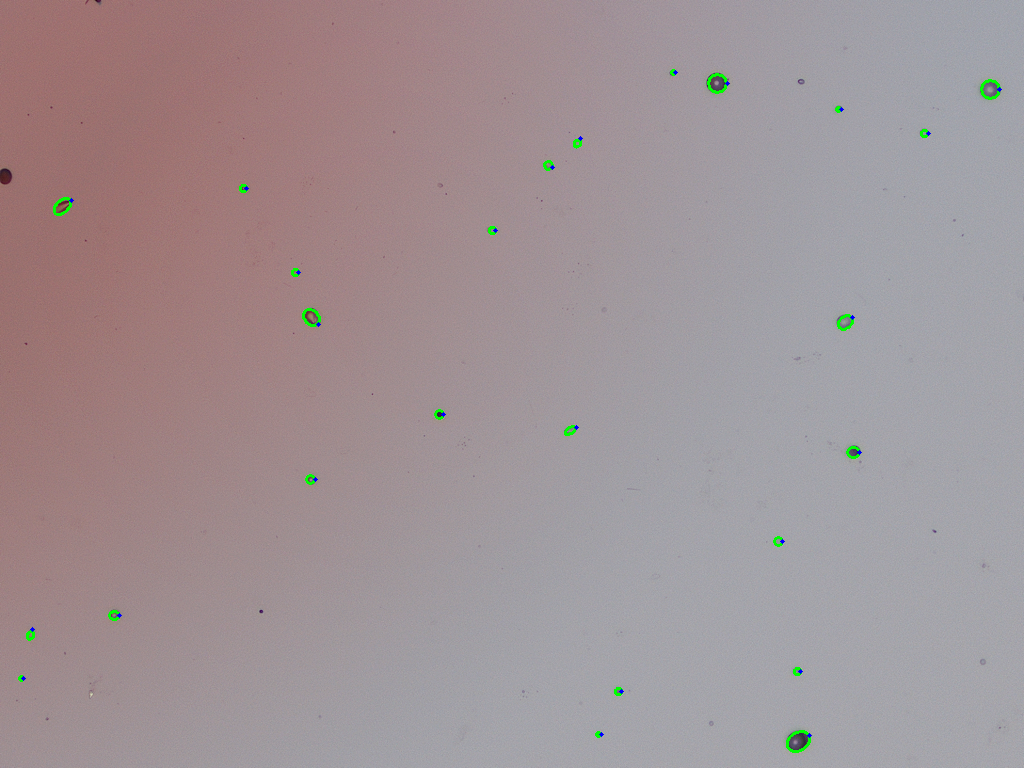circle: (707, 73, 727, 93), (981, 80, 999, 98), (847, 445, 859, 458), (305, 474, 315, 484), (109, 610, 119, 620), (774, 537, 782, 546), (487, 226, 496, 234), (435, 410, 443, 418), (920, 129, 928, 137), (793, 667, 800, 674), (240, 185, 246, 191), (615, 688, 621, 694), (292, 269, 298, 275), (835, 106, 841, 111), (18, 675, 23, 680), (670, 70, 675, 75), (596, 732, 601, 737)
ellipse: (302, 308, 320, 327), (544, 161, 552, 170)
